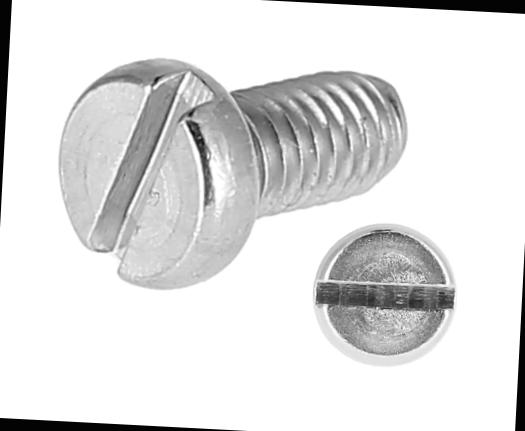screw: (49, 48, 266, 296)
